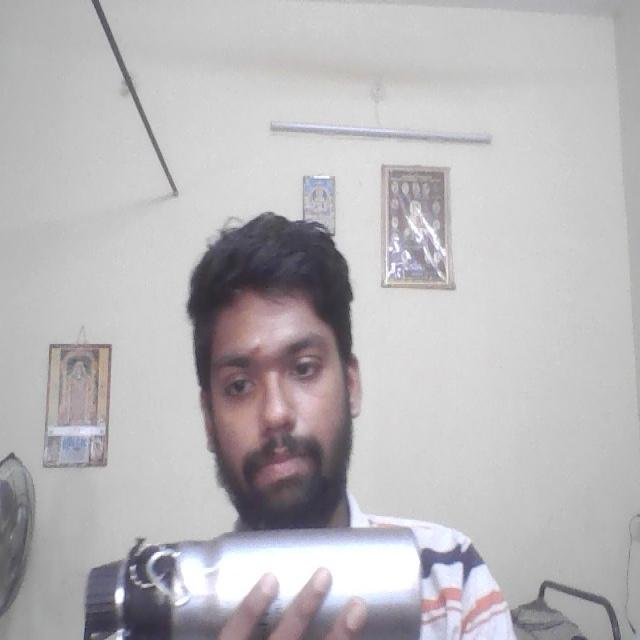Drinking: (95, 526, 420, 638)
